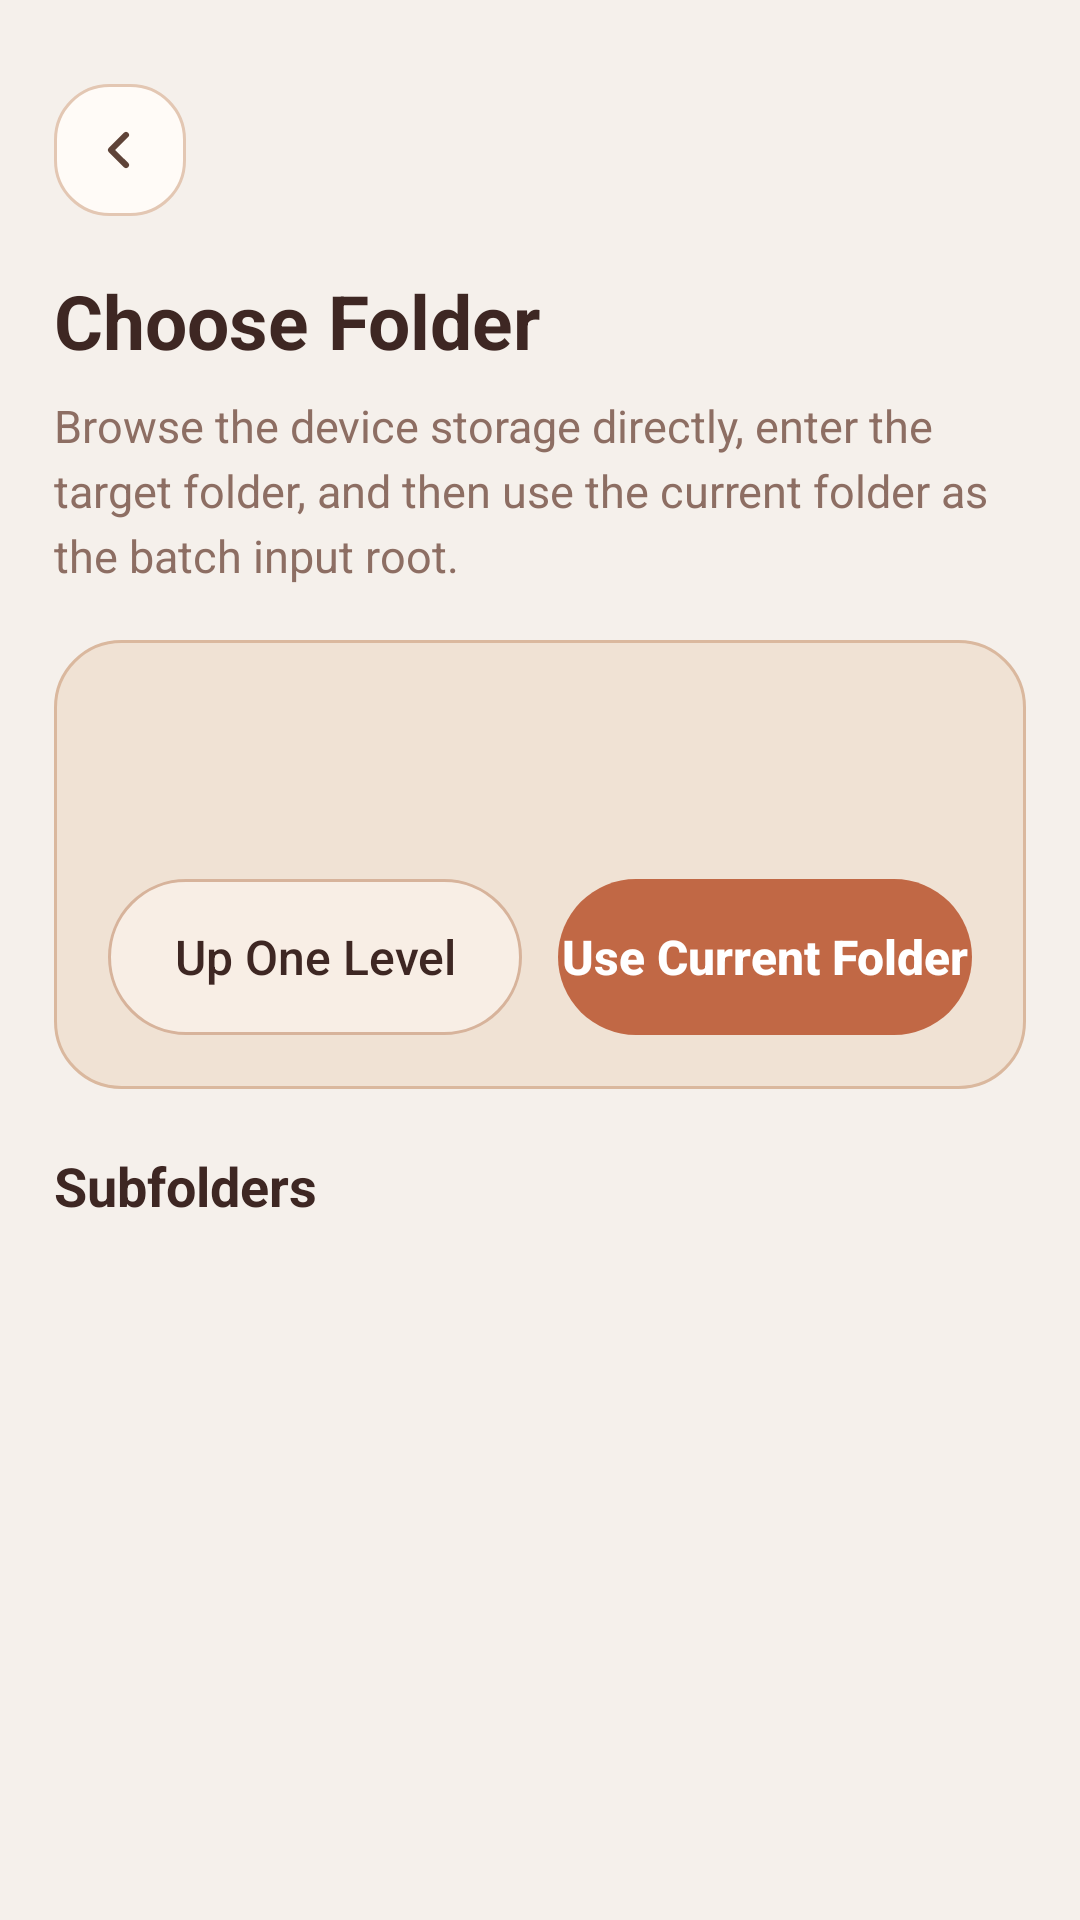

Named icons in this screenshot (1080px x 1920px) and their bounding boxes, (x1=x1, y1=y1, x2=x2, y2=y2):
Back: (x1=54, y1=84, x2=186, y2=216)
